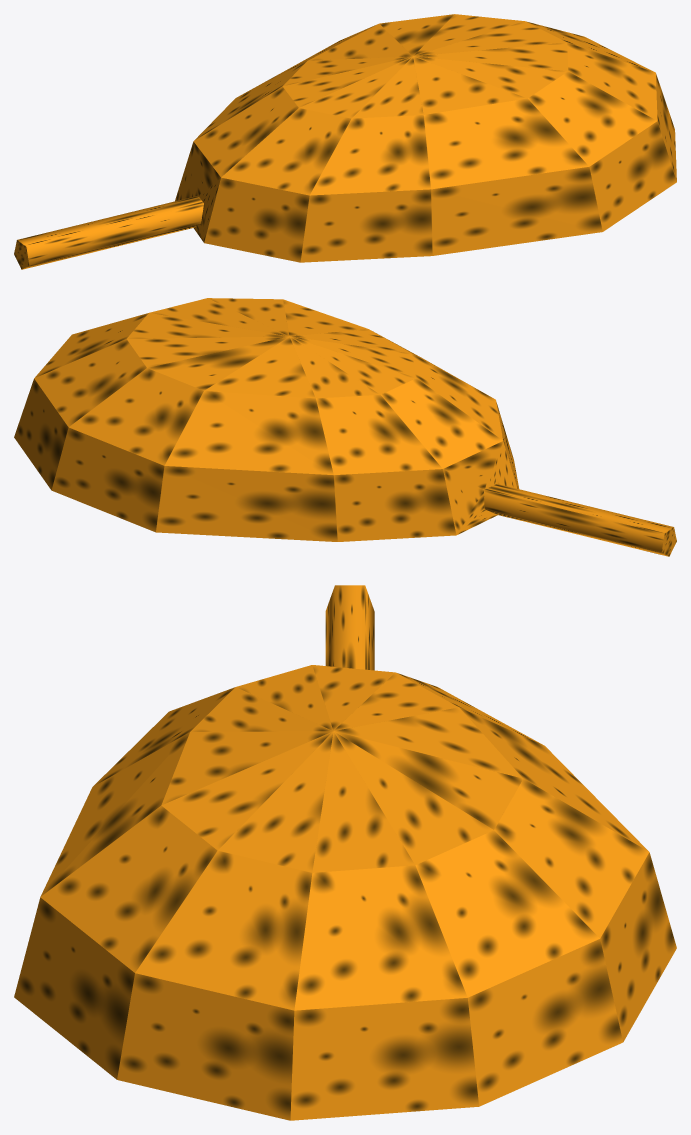
The model's file is Crab Shell (Horseshoe crab).fbx.
The picture shows the model from 3 angles, top to bottom: view 1: azimuth 30°, elevation 25°; view 2: azimuth 150°, elevation 25°; view 3: azimuth 270°, elevation 25°; orthographic projection. The views are drawn at different scales.
Visible parts, largest first — view 1: HorseShoe CrabShell; view 2: HorseShoe CrabShell; view 3: HorseShoe CrabShell.
Boxes of the visible parts, x1,y1,x2,y2 form: HorseShoe CrabShell: (14,14,676,269); HorseShoe CrabShell: (14,298,676,556); HorseShoe CrabShell: (14,585,676,1120).
Size of the model in its own units: 38.97 by 7.27 by 22.18.
